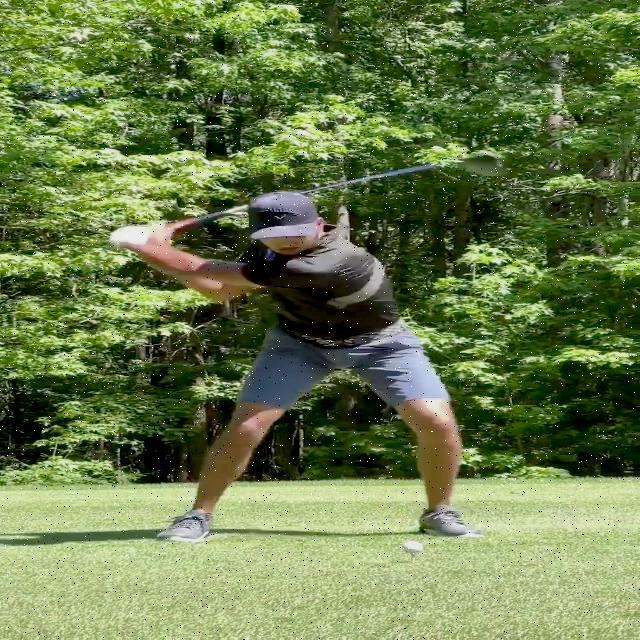golf ball: (403, 541, 425, 554)
golf club-handle: (109, 148, 514, 249)
golf club-head: (463, 151, 507, 177)
